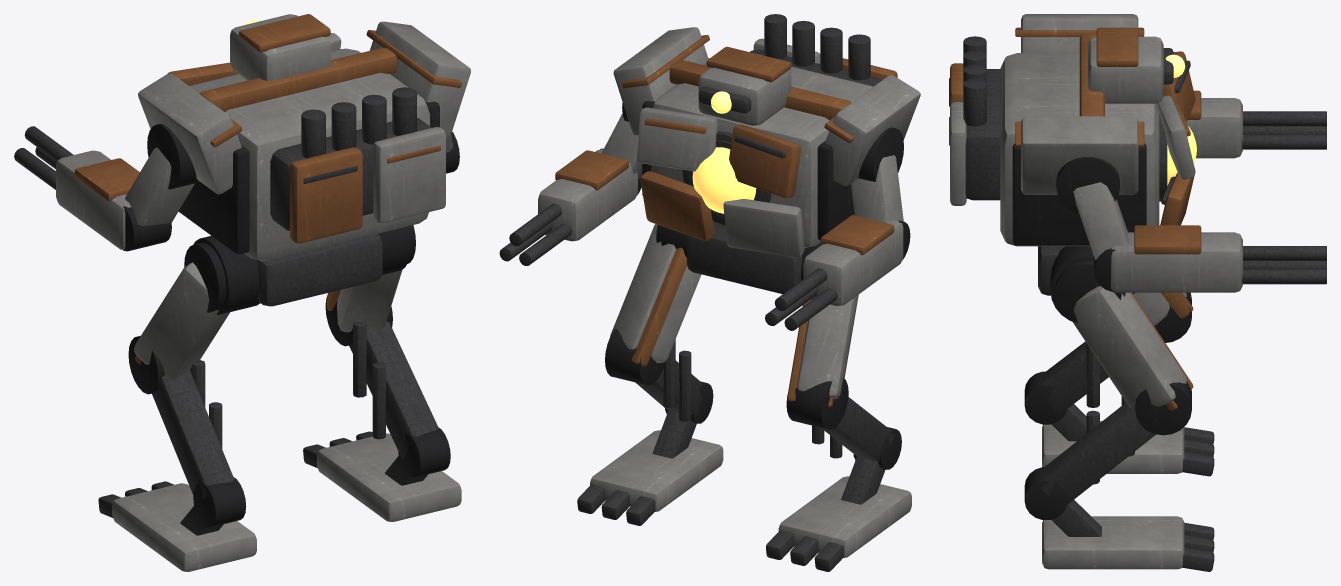
The model's file is arc_colossus.glb.
3 views of the same model, side by side, from view 1: azimuth 30°, elevation 25°; view 2: azimuth 150°, elevation 25°; view 3: azimuth 270°, elevation 25° (orthographic). The views are drawn at different scales.
Parts seen in each view (by area): view 1: colossus_torso_mesh, colossus_leg_l_foot, colossus_leg_r_foot, colossus_pelvis_mesh, colossus_arm_l_lower, colossus_leg_l, colossus_leg_r_lower, colossus_leg_l_lower, colossus_plate_4, colossus_plate_6, colossus_plate_7, colossus_head (+4 smaller); view 2: colossus_torso_mesh, colossus_leg_l_foot, colossus_leg_r_foot, colossus_arm_l_lower, colossus_arm_r_lower, colossus_leg_r, colossus_head, colossus_plate_4, colossus_pelvis_mesh, colossus_leg_l_lower, colossus_leg_l, colossus_plate_5 (+8 smaller); view 3: colossus_torso_mesh, colossus_arm_r_lower, colossus_leg_r_foot, colossus_leg_r, colossus_plate_5, colossus_leg_r_lower, colossus_leg_l_foot, colossus_arm_l_lower, colossus_head, colossus_arm_r, colossus_leg_l_lower, colossus_plate_4 (+8 smaller).
Part boxes in pixels (x1=…): colossus_torso_mesh: x1=178, y1=47, x2=439, y2=260; colossus_leg_l_foot: x1=98, y1=477, x2=256, y2=571; colossus_leg_r_foot: x1=303, y1=427, x2=461, y2=521; colossus_pelvis_mesh: x1=193, y1=226, x2=410, y2=314; colossus_arm_l_lower: x1=14, y1=126, x2=171, y2=251; colossus_leg_l: x1=134, y1=242, x2=229, y2=379; colossus_leg_r_lower: x1=325, y1=297, x2=438, y2=459; colossus_leg_l_lower: x1=128, y1=336, x2=234, y2=499; colossus_plate_4: x1=138, y1=73, x2=242, y2=194; colossus_plate_6: x1=290, y1=147, x2=362, y2=243; colossus_plate_7: x1=373, y1=127, x2=445, y2=223; colossus_head: x1=230, y1=14, x2=330, y2=80; colossus_torso_mesh: x1=642, y1=14, x2=882, y2=247; colossus_leg_l_foot: x1=766, y1=427, x2=911, y2=571; colossus_leg_r_foot: x1=577, y1=381, x2=723, y2=525; colossus_arm_l_lower: x1=765, y1=215, x2=910, y2=330; colossus_arm_r_lower: x1=499, y1=148, x2=641, y2=265; colossus_leg_r: x1=610, y1=224, x2=701, y2=366; colossus_head: x1=698, y1=46, x2=791, y2=125; colossus_plate_4: x1=824, y1=75, x2=920, y2=186; colossus_pelvis_mesh: x1=661, y1=226, x2=820, y2=294; colossus_leg_l_lower: x1=786, y1=378, x2=894, y2=461; colossus_leg_l: x1=787, y1=295, x2=858, y2=407; colossus_plate_5: x1=613, y1=27, x2=709, y2=135; colossus_torso_mesh: x1=963, y1=33, x2=1165, y2=246; colossus_arm_r_lower: x1=1094, y1=225, x2=1326, y2=292; colossus_leg_r_foot: x1=1024, y1=467, x2=1214, y2=571; colossus_leg_r: x1=1054, y1=261, x2=1193, y2=410; colossus_plate_5: x1=1015, y1=116, x2=1144, y2=194; colossus_leg_r_lower: x1=1040, y1=381, x2=1191, y2=504; colossus_leg_l_foot: x1=1024, y1=371, x2=1214, y2=476; colossus_arm_l_lower: x1=1186, y1=90, x2=1326, y2=158; colossus_head: x1=1088, y1=27, x2=1173, y2=103; colossus_arm_r: x1=1056, y1=157, x2=1128, y2=259; colossus_leg_l_lower: x1=1040, y1=292, x2=1191, y2=412; colossus_plate_4: x1=1015, y1=14, x2=1144, y2=52.
Size of the model in its own units: 4.42 by 6.13 by 4.51.
6 materials, 4 textured.
